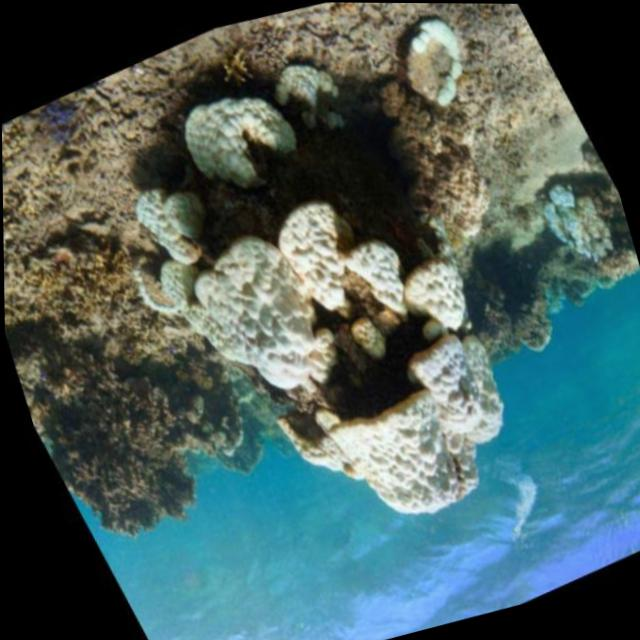Dead Coral: (3, 246, 249, 570)
